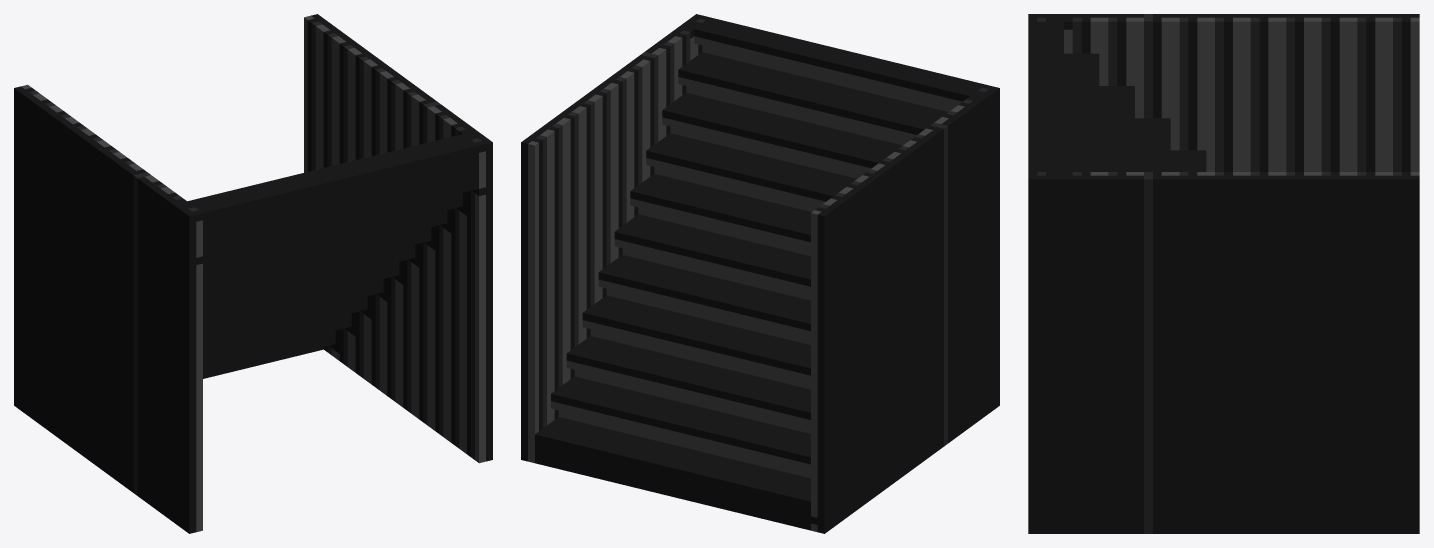
The model's file is mesh_stairway_4.obj.
3 renders of one model, left to right at view 1: azimuth 30°, elevation 25°; view 2: azimuth 150°, elevation 25°; view 3: azimuth 270°, elevation 25°, orthographic. The views are drawn at different scales.
Bounding box in the file's own units: 4.4 × 4.4 × 4.4.
1 material, 1 textured.
